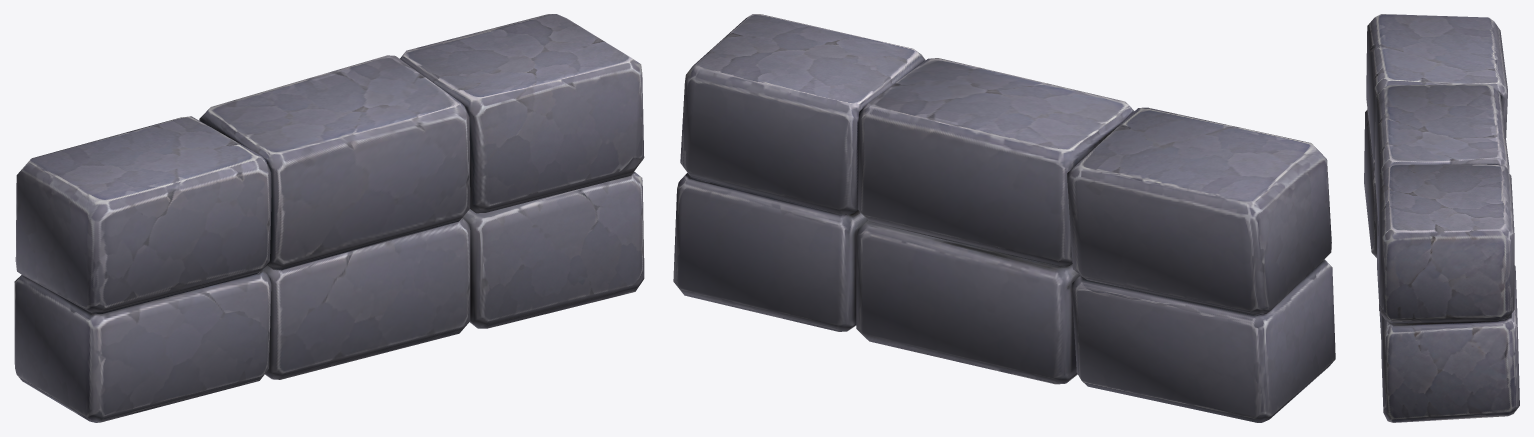
File: stone_blocks.glb
3 views of the same model, side by side, from view 1: azimuth 30°, elevation 25°; view 2: azimuth 150°, elevation 25°; view 3: azimuth 270°, elevation 25° (orthographic). The views are drawn at different scales.
Visible parts, largest first — view 1: tripo_node_82b8fd00-e0b6-49d2-a4a5-4abaefa87503; view 2: tripo_node_82b8fd00-e0b6-49d2-a4a5-4abaefa87503; view 3: tripo_node_82b8fd00-e0b6-49d2-a4a5-4abaefa87503.
Part boxes in pixels (x1,y1,x2,y2): tripo_node_82b8fd00-e0b6-49d2-a4a5-4abaefa87503: (14,14,644,422); tripo_node_82b8fd00-e0b6-49d2-a4a5-4abaefa87503: (673,14,1335,422); tripo_node_82b8fd00-e0b6-49d2-a4a5-4abaefa87503: (1364,14,1519,422).
Bounding box in the file's own units: 0.998 × 0.3848 × 0.2832.
Materials: 1 (1 with a texture image).
